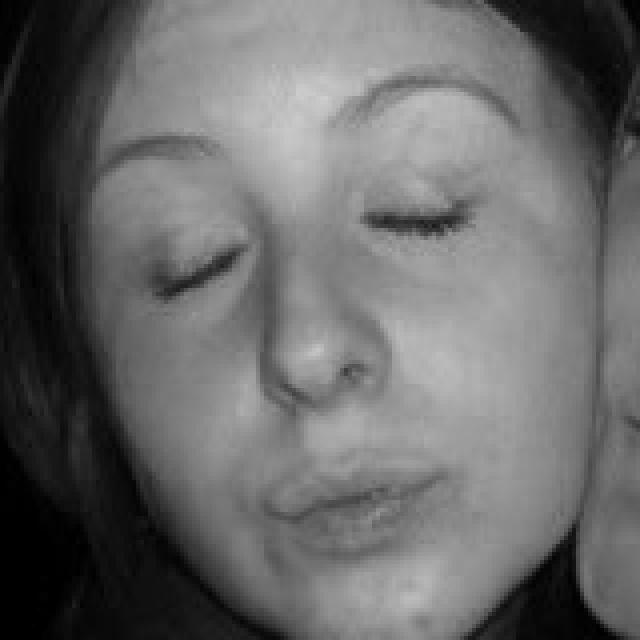real: (60, 6, 582, 634), (134, 163, 512, 299)
